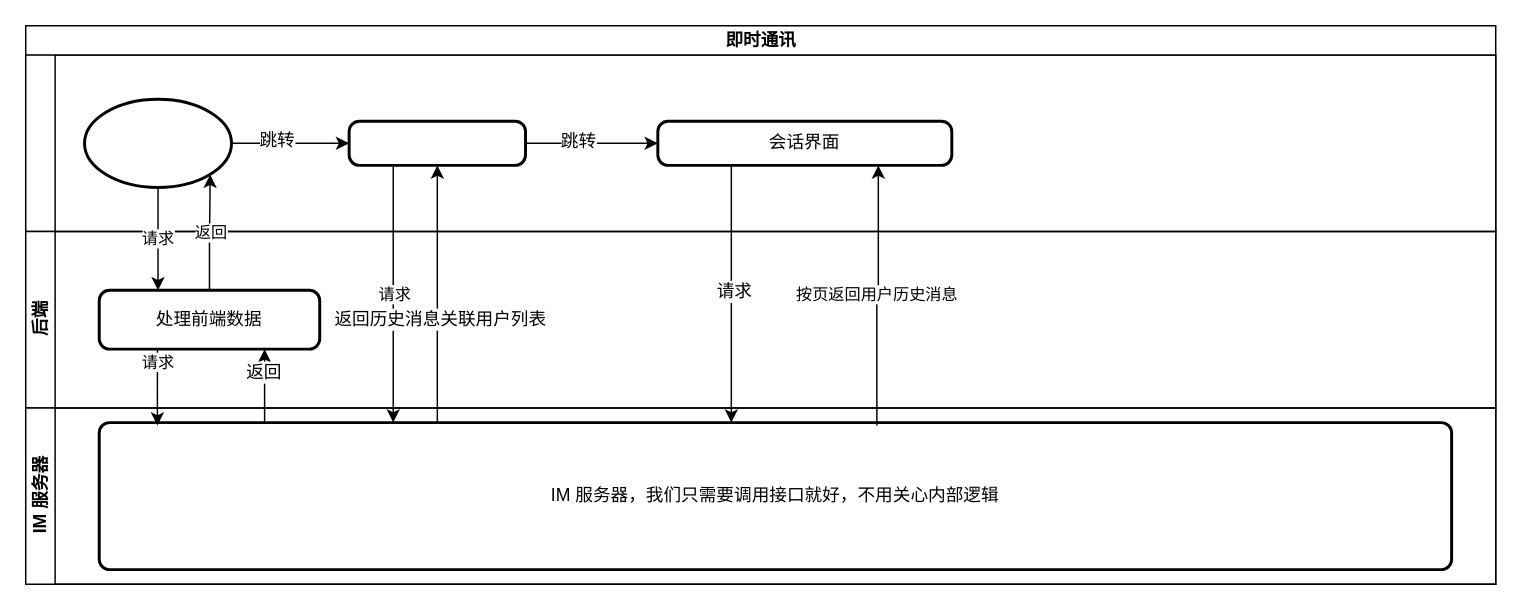
The diagram is 1521 pixels wide and 610 high, and some of its shapes have lost their labels. The box of each missing label's shape, as (x1, y1, x2, y2) in pixels:
前端: (24, 54, 1496, 232)
消息列表页: (347, 119, 526, 166)
登录: (82, 97, 232, 188)
